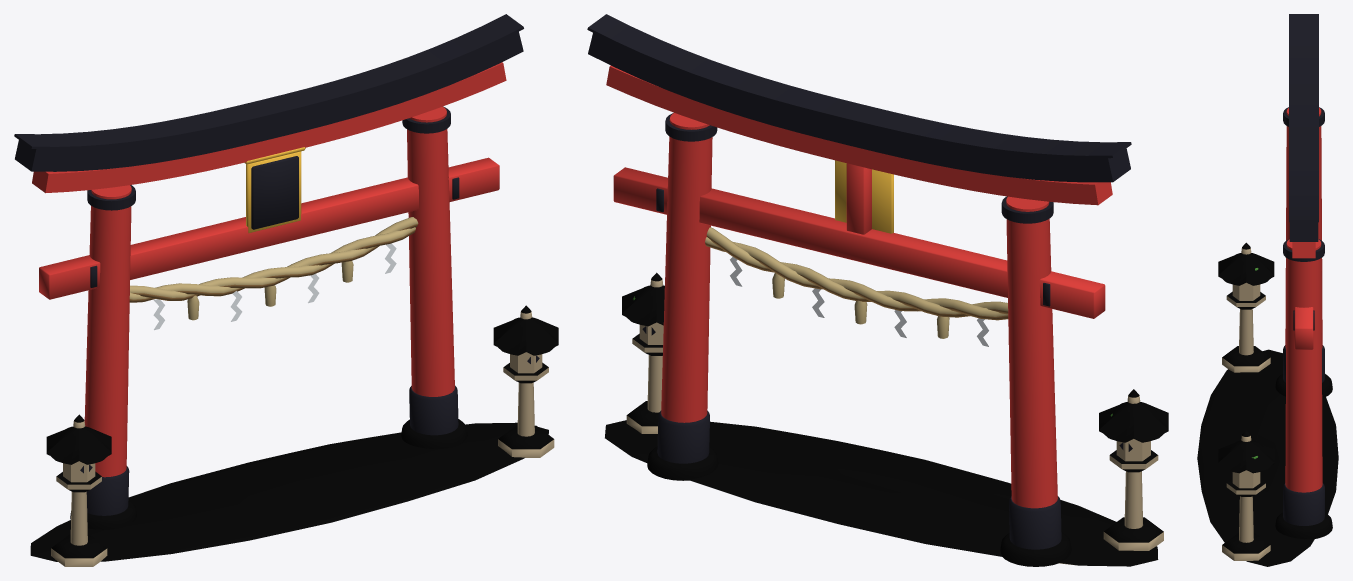
File: ToriiGate.fbx
The picture shows the model from 3 angles, left to right: view 1: azimuth 30°, elevation 25°; view 2: azimuth 150°, elevation 25°; view 3: azimuth 270°, elevation 25°; orthographic projection. The views are drawn at different scales.
Visible parts, largest first — view 1: ToriiGate; view 2: ToriiGate; view 3: ToriiGate.
Boxes of the visible parts, x1,y1,x2,y2 form: ToriiGate: [14, 14, 558, 566]; ToriiGate: [587, 14, 1168, 566]; ToriiGate: [1197, 14, 1338, 566].
Size of the model in its own units: 11.59 by 8.49 by 3.19.
1 material, 1 textured.
